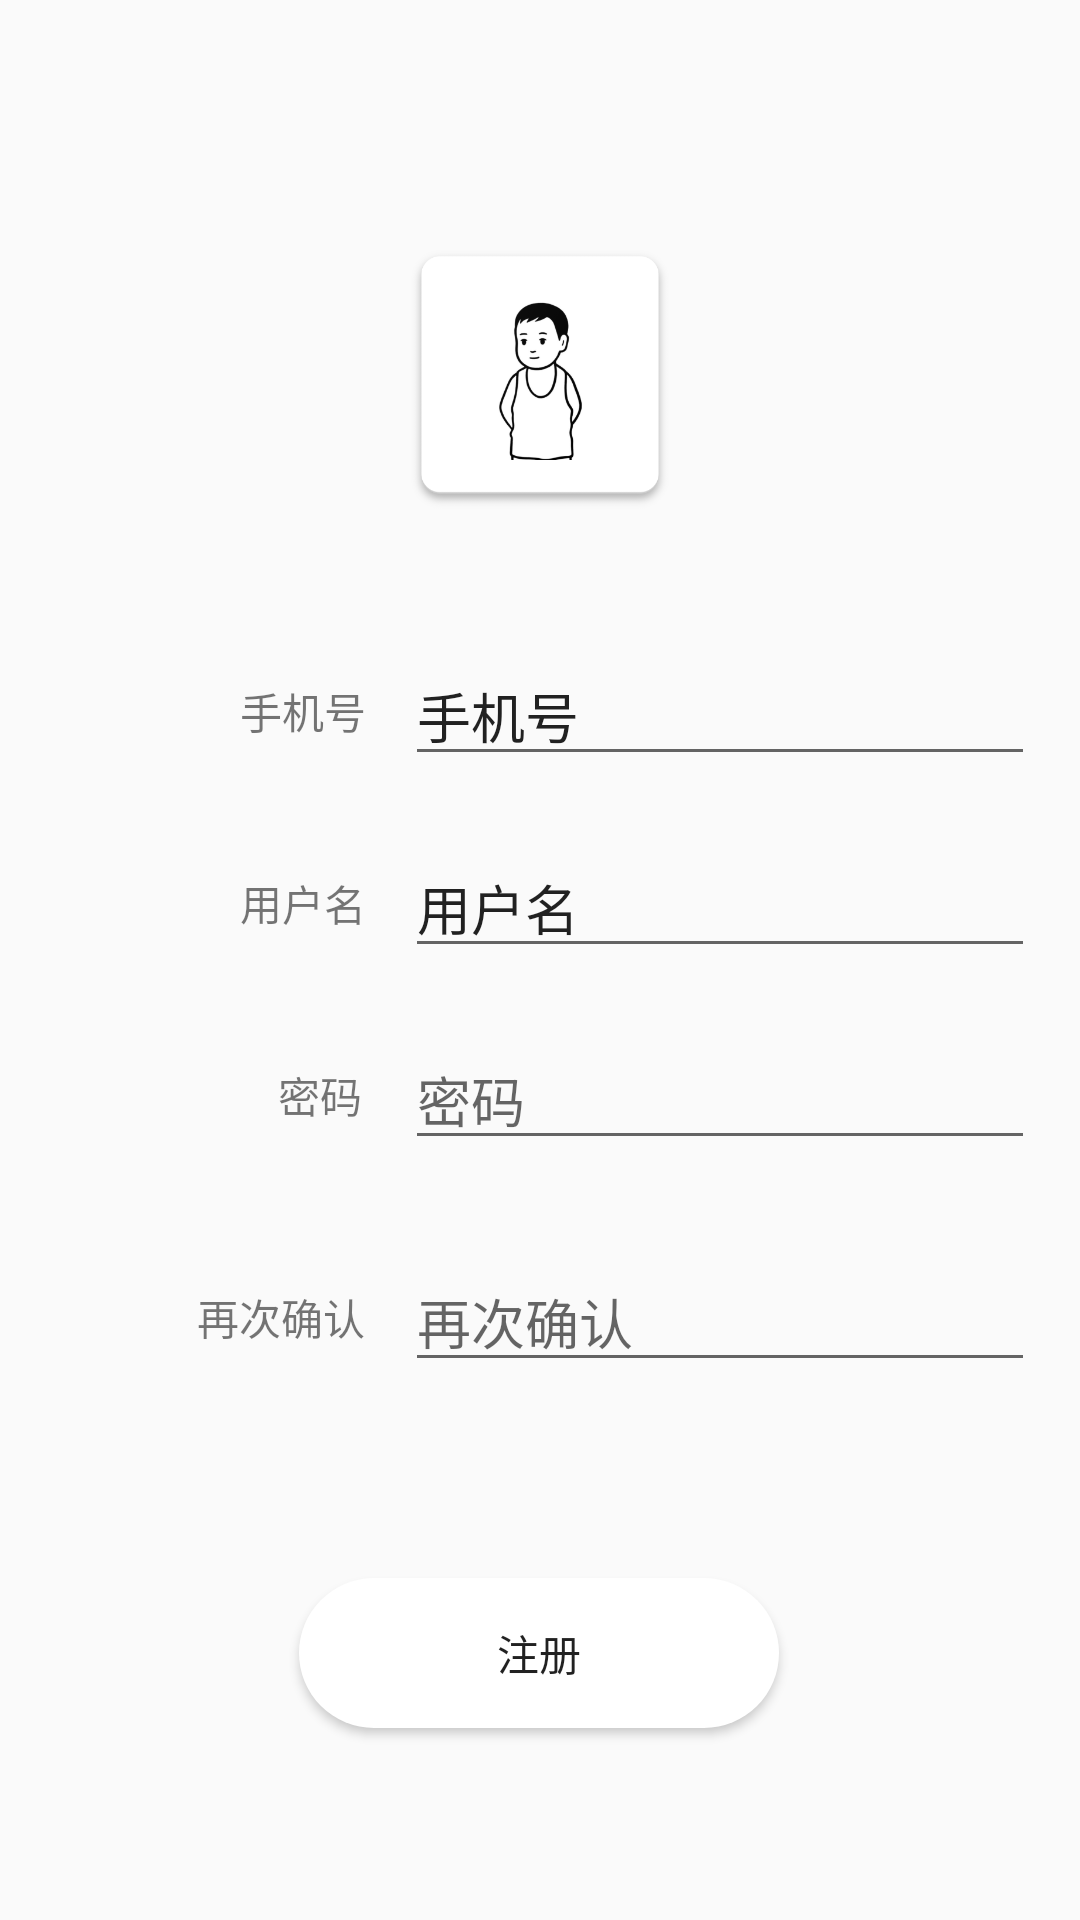

Point at icon controls on the screen. Image size 1080×1920, points as [x,y].
user: [540,387]
